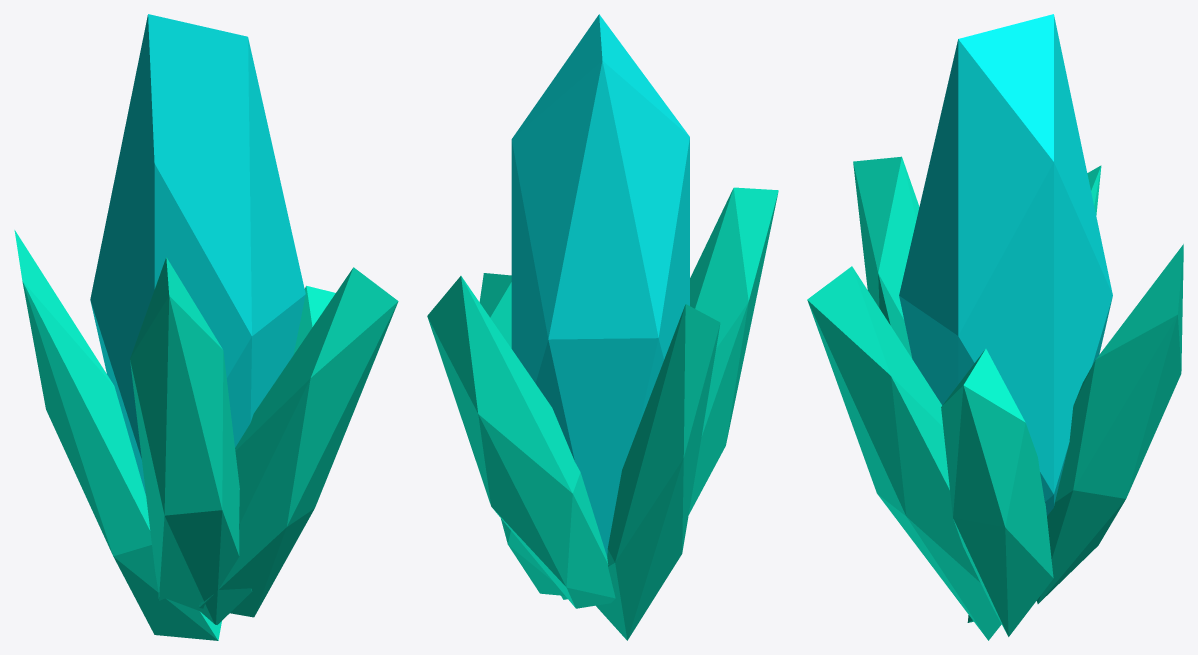
The model's file is 3dm_Crystal.fbx.
3 views of the same model, side by side, from view 1: azimuth 30°, elevation 25°; view 2: azimuth 150°, elevation 25°; view 3: azimuth 270°, elevation 25° (orthographic). The views are drawn at different scales.
Parts seen in each view (by area): view 1: Crystal2, Crystal5, Crystal3, Crystal6, Crystal4; view 2: Crystal2, Crystal7, Crystal6, Crystal5, Crystal4; view 3: Crystal2, Crystal3, Crystal7, Crystal4, Crystal5.
Boxes of the visible parts, x1=… form: Crystal2: x1=90, y1=14, x2=305, y2=494; Crystal5: x1=130, y1=257, x2=251, y2=624; Crystal3: x1=199, y1=267, x2=398, y2=617; Crystal6: x1=14, y1=230, x2=221, y2=640; Crystal4: x1=293, y1=285, x2=335, y2=354; Crystal2: x1=511, y1=14, x2=689, y2=556; Crystal7: x1=427, y1=276, x2=615, y2=608; Crystal6: x1=596, y1=304, x2=720, y2=640; Crystal5: x1=688, y1=187, x2=778, y2=514; Crystal4: x1=479, y1=273, x2=564, y2=595; Crystal2: x1=899, y1=14, x2=1112, y2=515; Crystal3: x1=807, y1=266, x2=1001, y2=640; Crystal7: x1=1036, y1=244, x2=1183, y2=603; Crystal4: x1=941, y1=349, x2=1053, y2=636; Crystal5: x1=853, y1=156, x2=919, y2=358.
Size of the model in its own units: 10.91 by 21.72 by 12.33.
